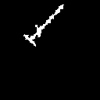double_crochet: (24, 5, 62, 45)
